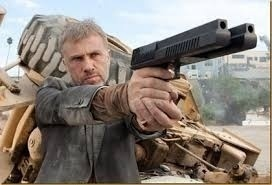pistol: (122, 17, 260, 77)
